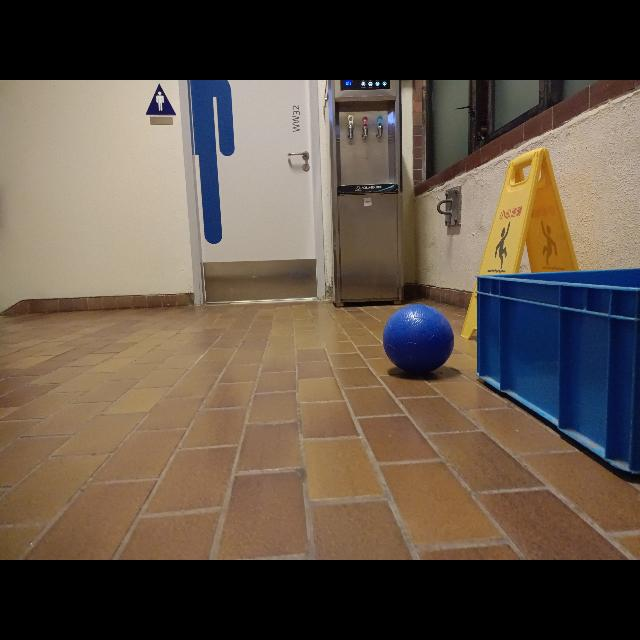B: (378, 303, 462, 379)
